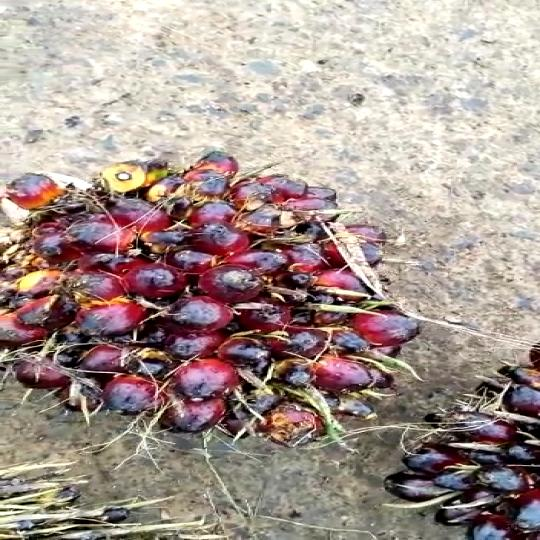kurang masak: (0, 124, 436, 445)
